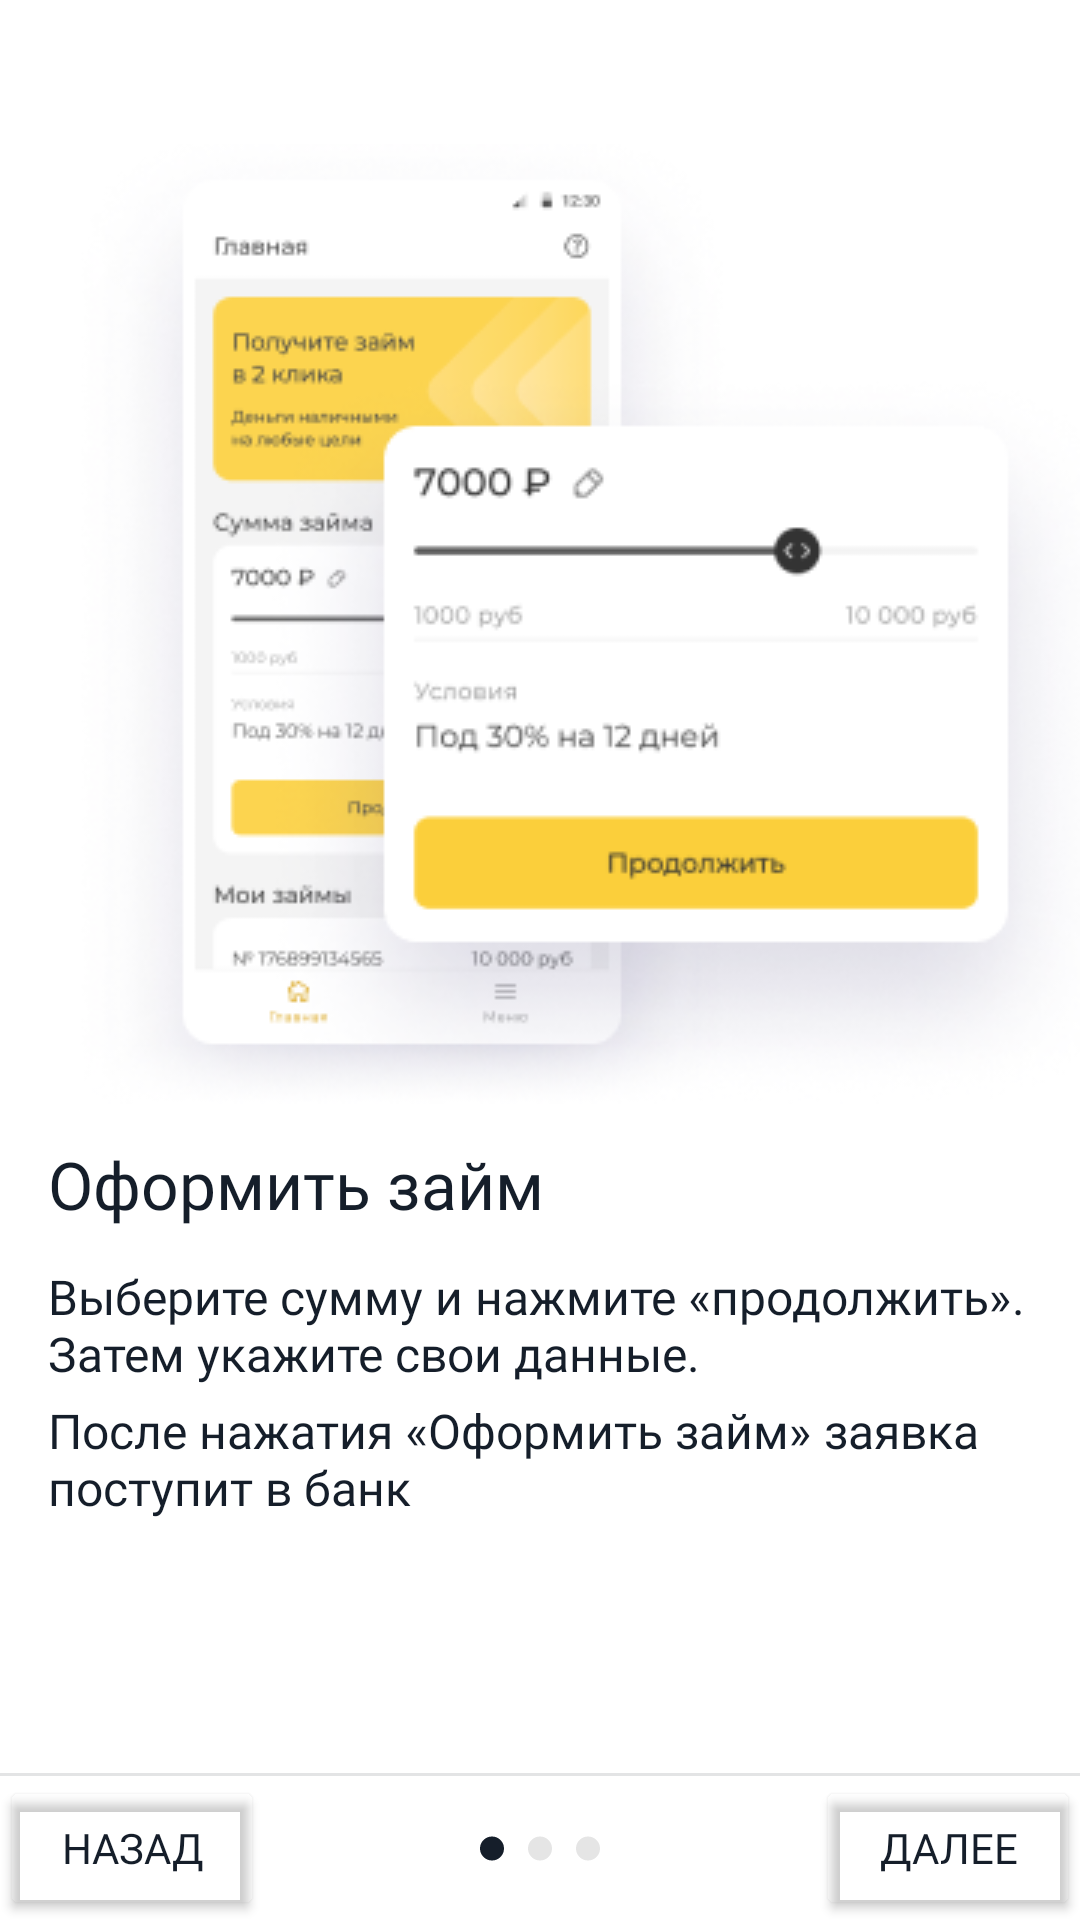

Where to tap for icons on this 1080×1920 app screen, as point (x, y):
dot first: point (540, 1848)
